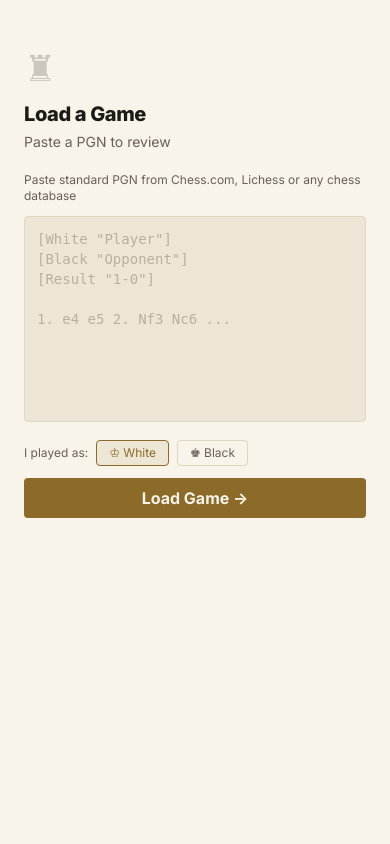
Scenario: GameReviewPage › Next/Previous move navigation updates the move label
Replace the text in the text box with placeholder "White \"Player\"" with "[Event \"Live Chess\"] [Date \"2026.07.01\"] [White \"hikaru\"] [Black \"opponent1\"] [Result \"1-0\"] [WhiteElo \"2800\"] [BlackElo \"2200\"] 1. e4 e5 2. Nf3 Nc6 3. Bc4 Bc5 4. O-O Nf6 1-0": (195, 319) [24,216,366,422]
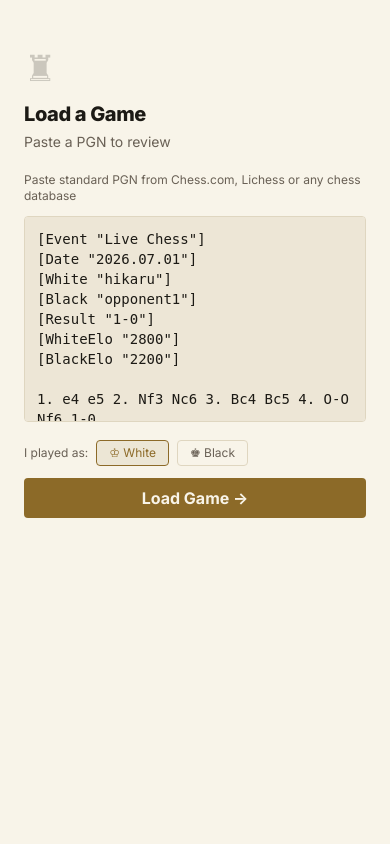
Click the button "Load Game →": (195, 498) [24,478,366,518]
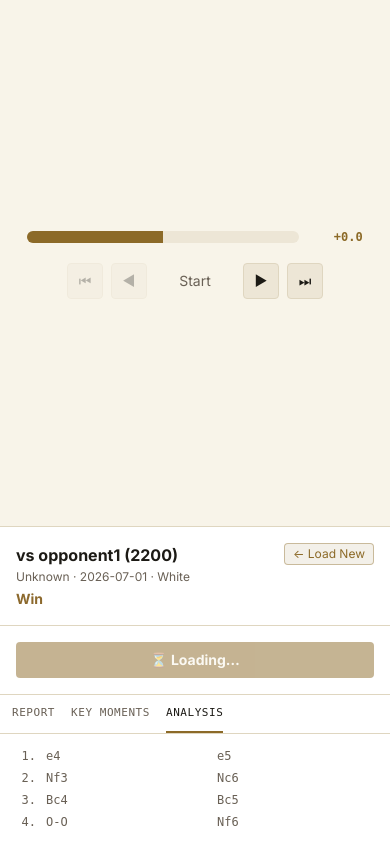
Check: the text "Start" is shown, box [179,272,211,289]
Click the button named "Next move": (261, 281) [243,263,279,299]
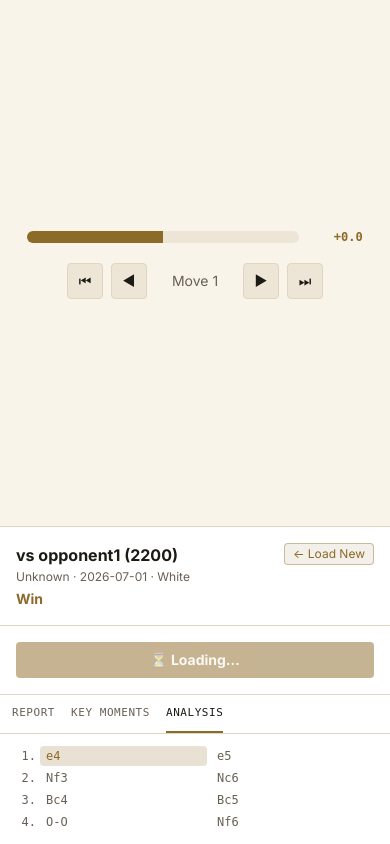
Check: the text "Move 1" is shown, box [172,272,218,289]
Click the button named "Previous move": (129, 281) [111,263,147,299]
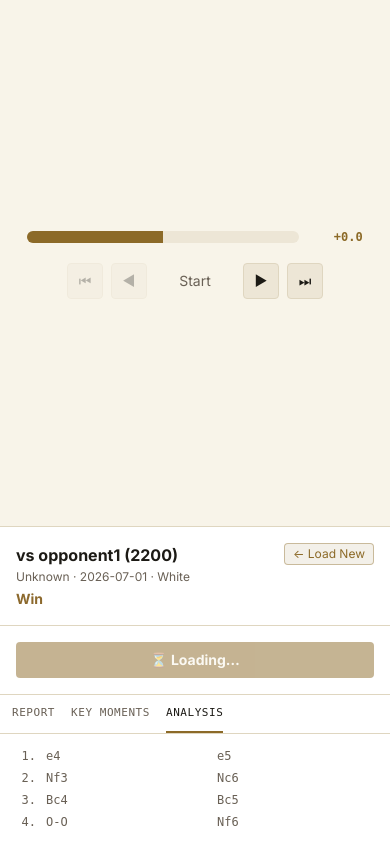
Check: the text "Start" is shown, box [179,272,211,289]
